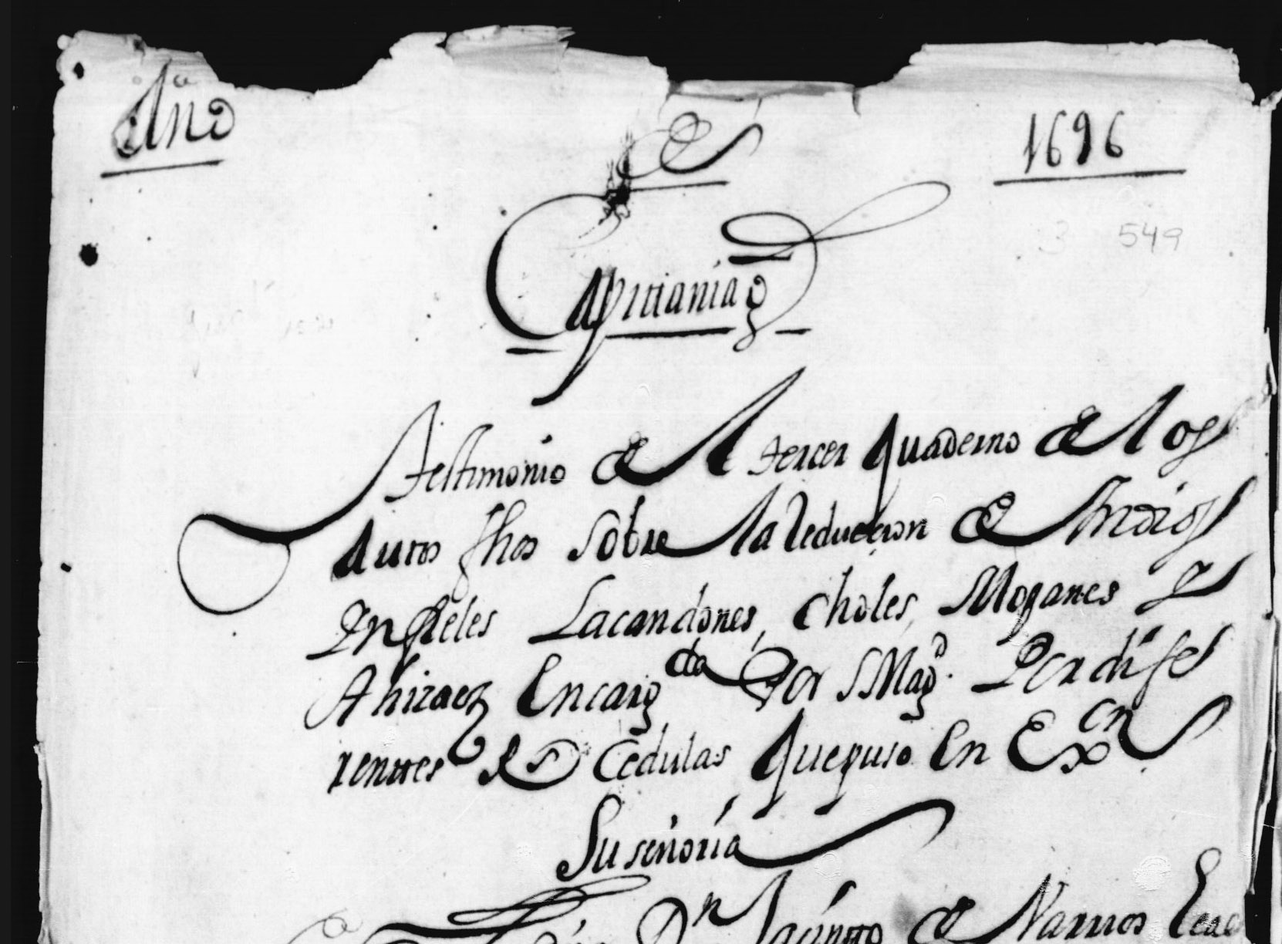lacandon: (528, 574, 757, 644)
